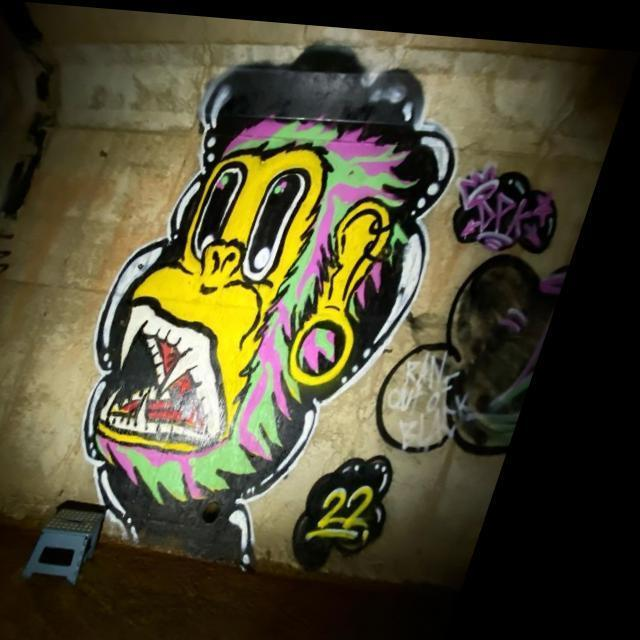-: (34, 12, 504, 582), (387, 326, 512, 446), (448, 156, 584, 248), (326, 456, 430, 552)
